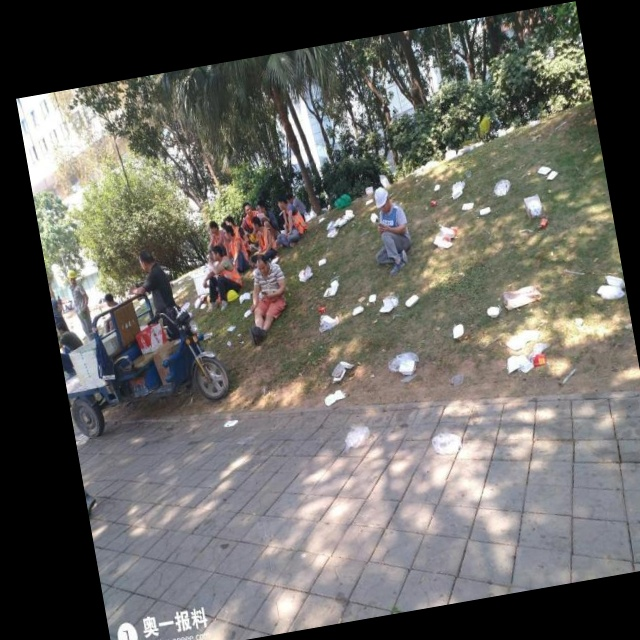Con_Casco: (372, 185, 394, 214)
